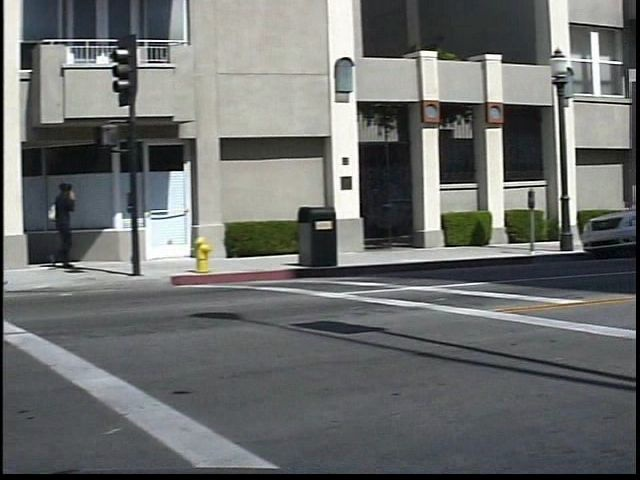person: (52, 175, 98, 273)
